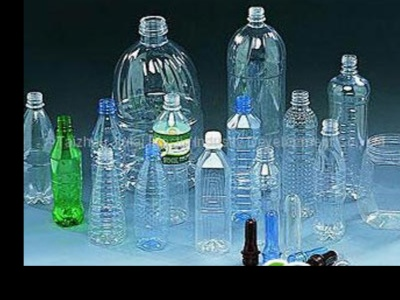bottle: (42, 113, 87, 237), (129, 143, 175, 253), (196, 122, 228, 254), (314, 115, 345, 242)
